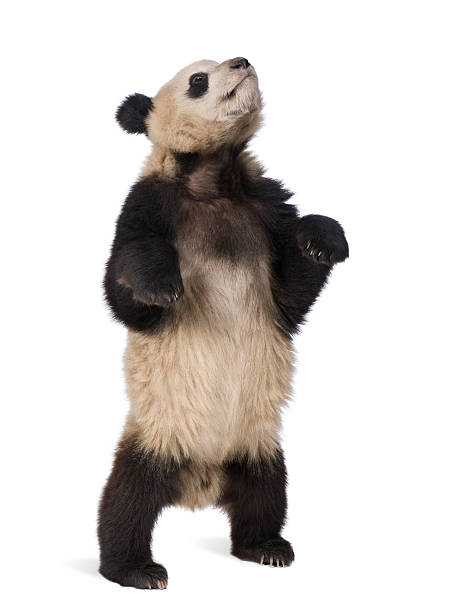panda: (109, 52, 309, 171)
